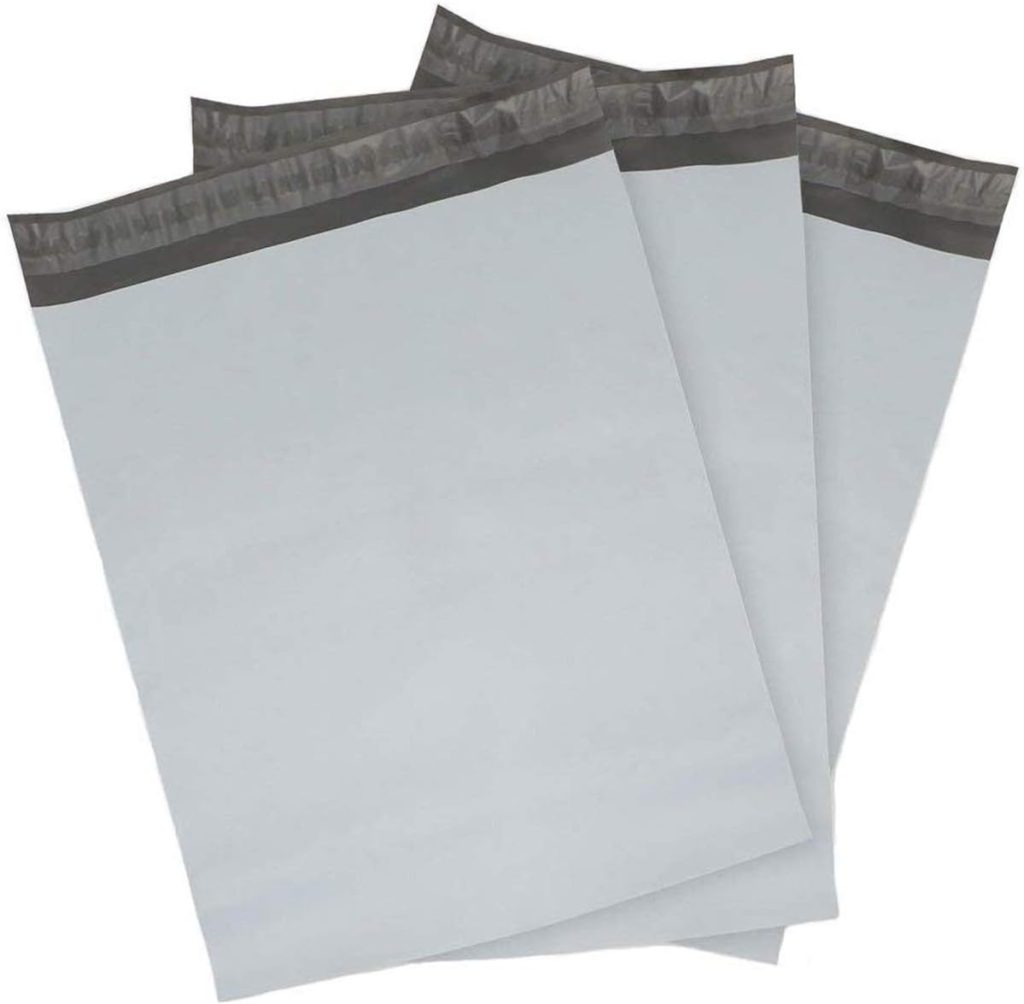Parcel: (212, 8, 1008, 971), (35, 157, 805, 997), (191, 63, 844, 967)
